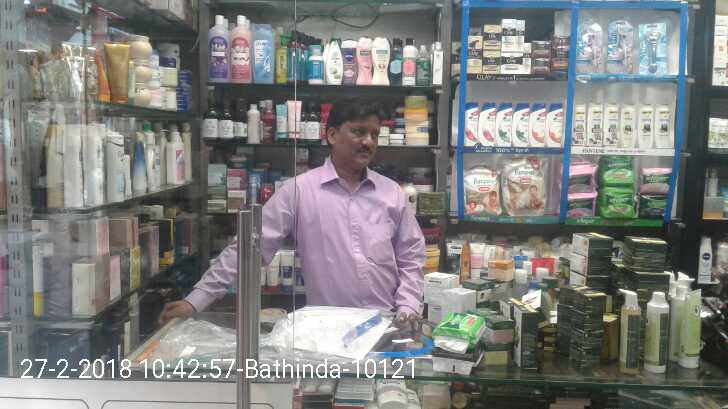venus: (640, 23, 669, 75), (608, 23, 635, 72), (576, 24, 604, 71)
